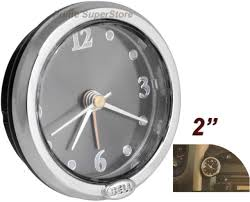alarm_clock: (1, 0, 184, 198), (7, 0, 184, 198), (7, 9, 184, 198)
